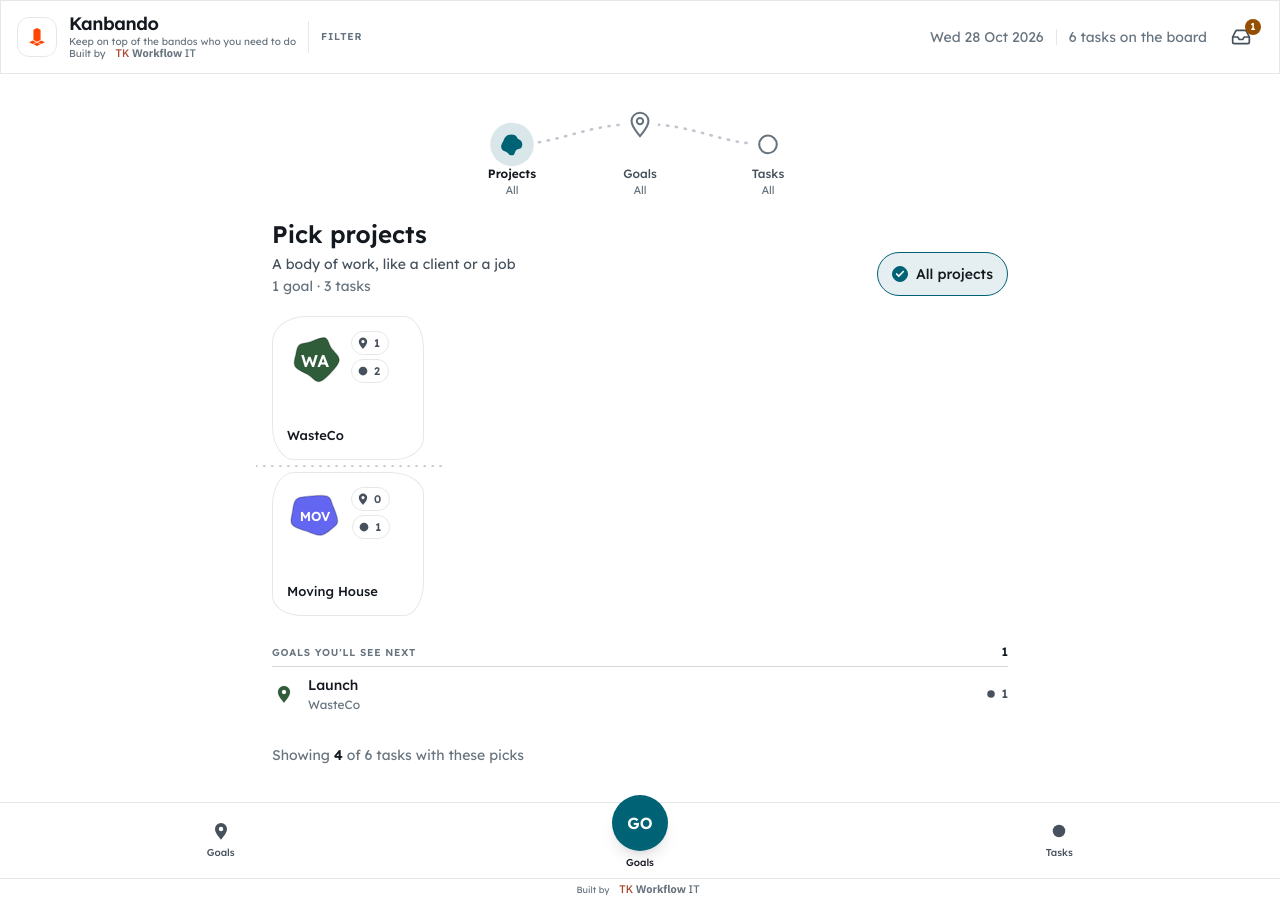
Test: Landing: the filter wizard › counts what the board will show, and narrows as stones are picked
The width and height of the screenshot is (1280, 900).
Click the button "WA 1 2 WasteCo" at (348, 388), box [272,316,424,460]
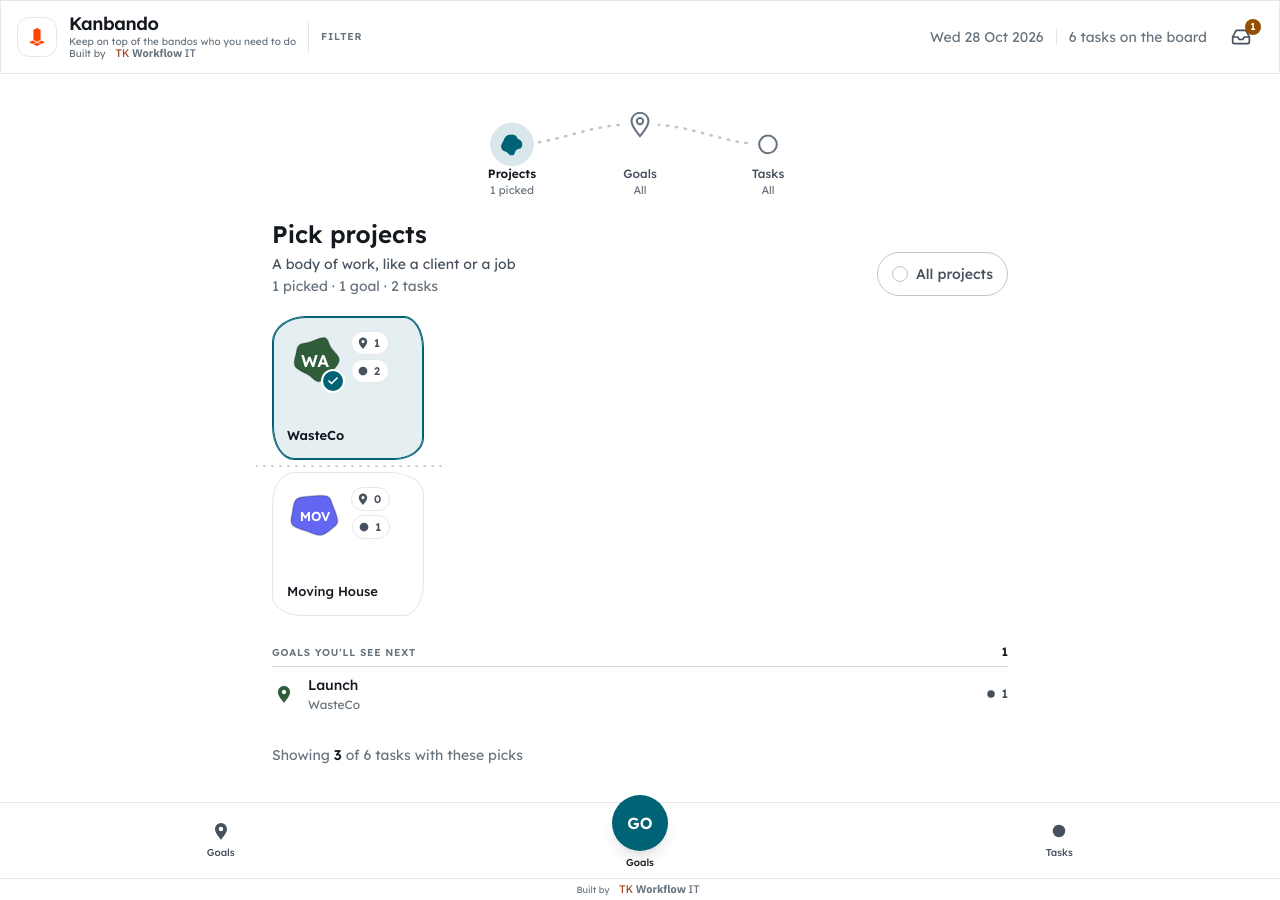
Check: the message with test id "landing-showing" shows "Showing 3 of 6", box [272,746,523,764]
Click the button with test id "button-go" at (640, 832), box [612,794,668,870]
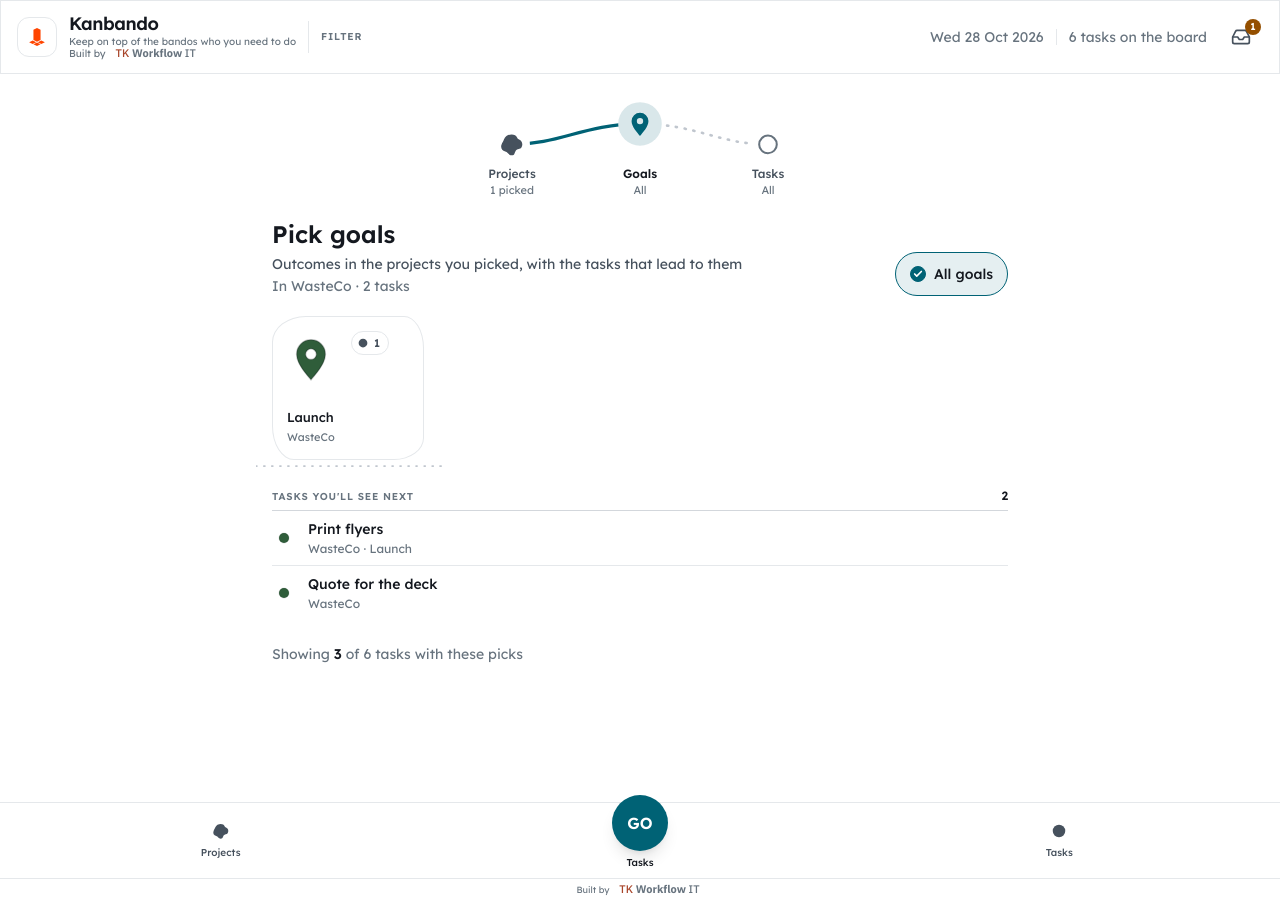
Click the button "1 Launch WasteCo" at (348, 388), box [272,316,424,460]
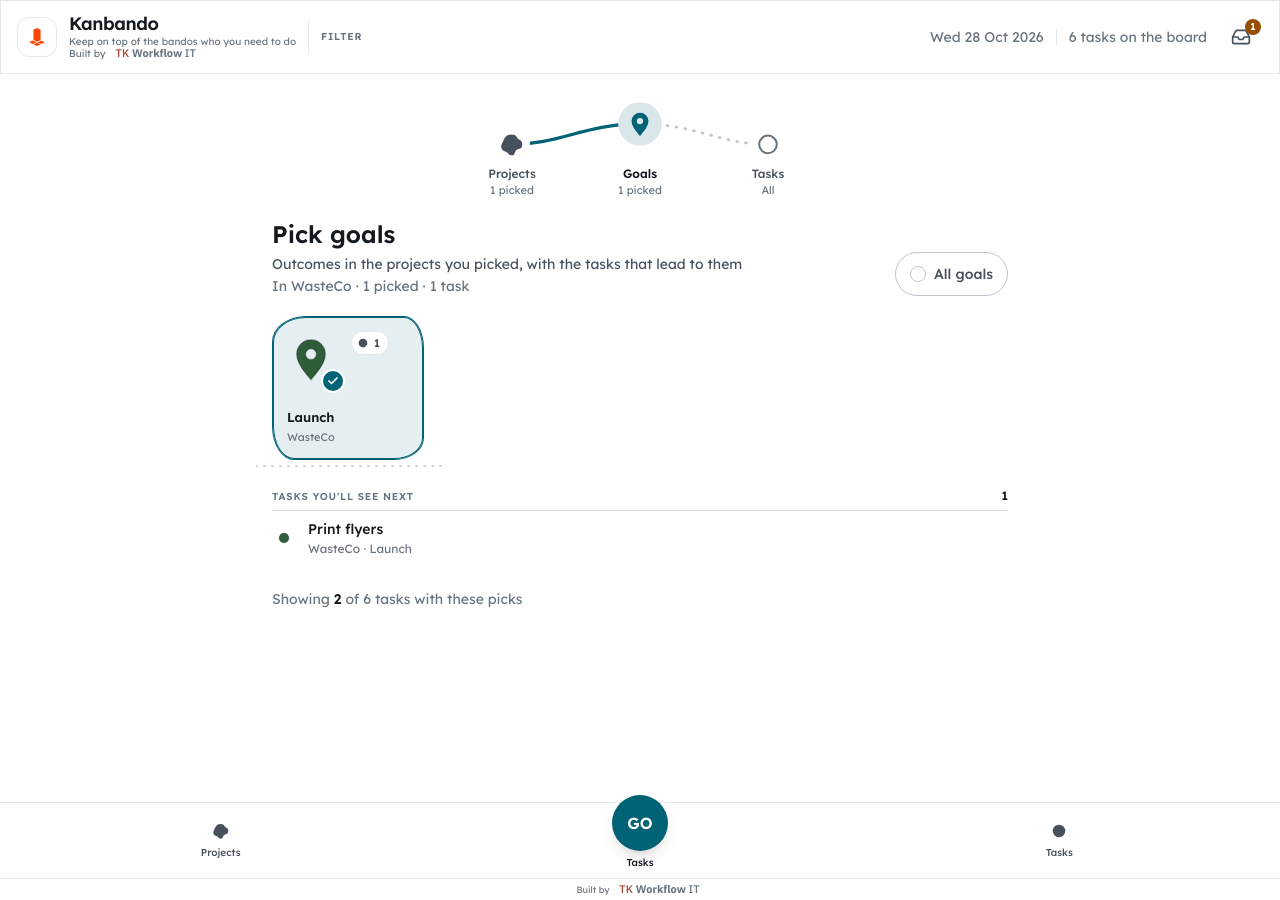
Check: the message with test id "landing-showing" shows "Showing 2 of 6", box [272,590,523,608]
Click the button with test id "button-go" at (640, 832), box [612,794,668,870]
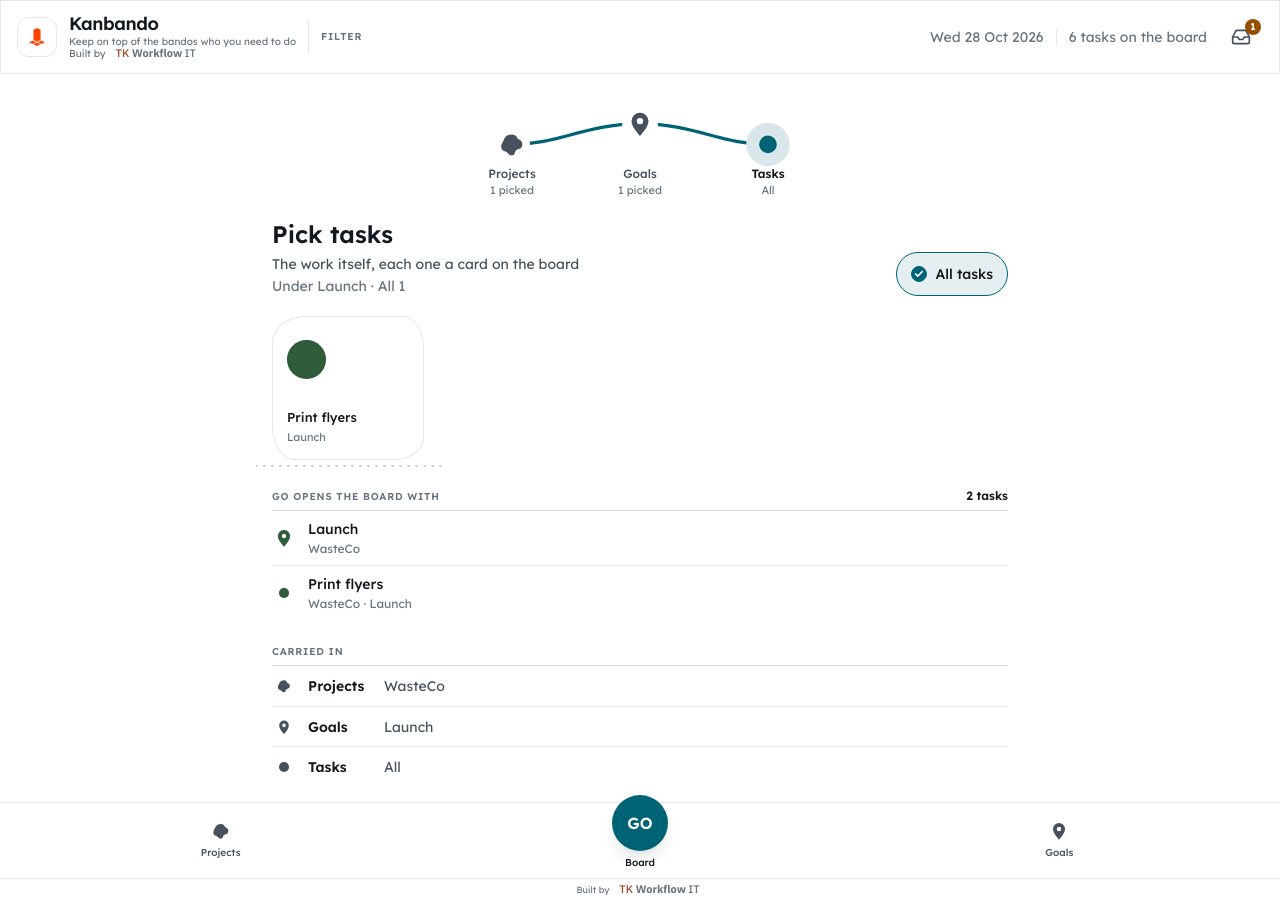
Click the button "Print flyers Launch" at (348, 388), box [272,316,424,460]
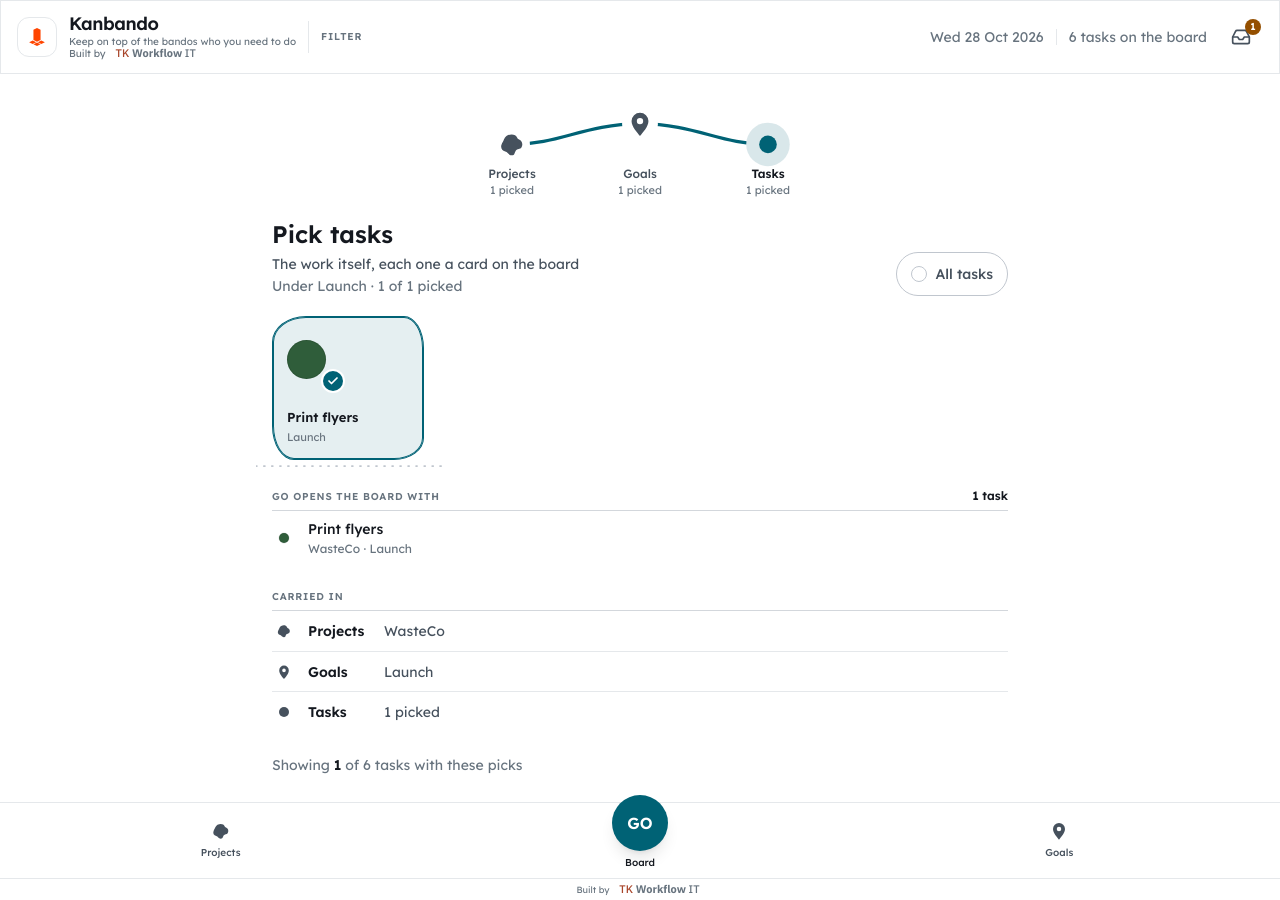
Check: the message with test id "landing-showing" shows "Showing 1 of 6", box [272,756,522,774]
